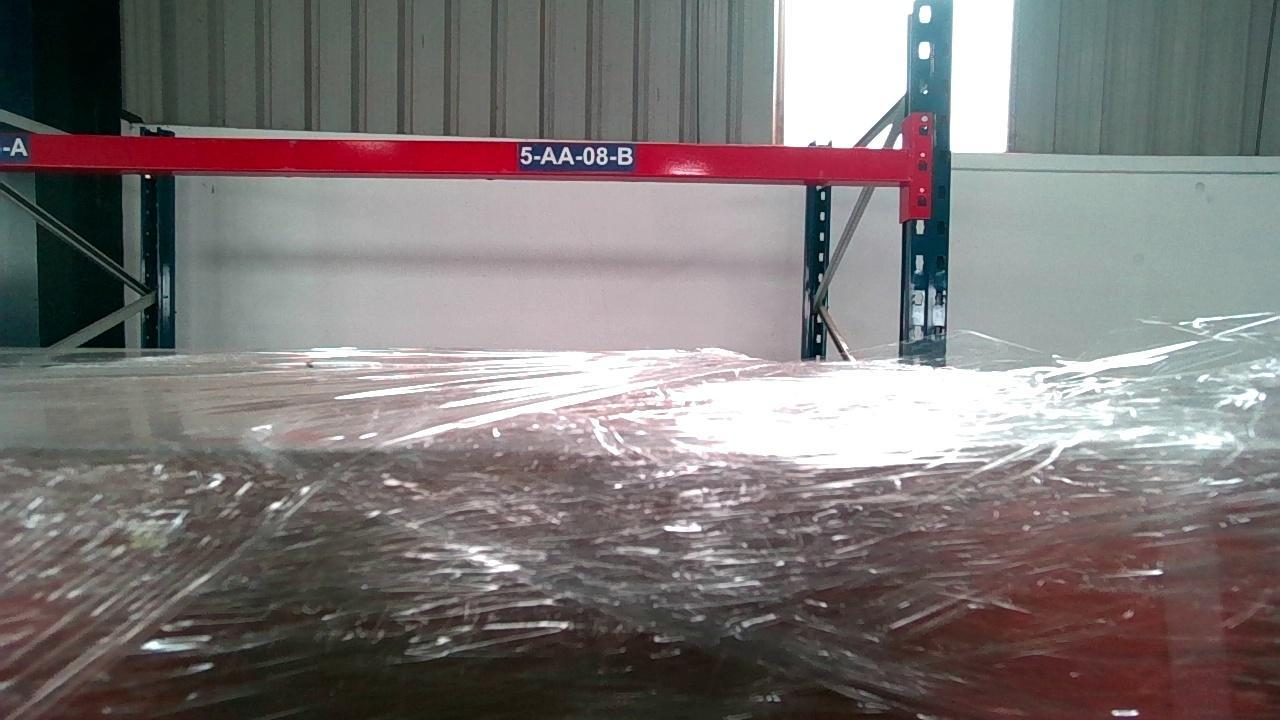h_rack: (0, 129, 904, 184)
